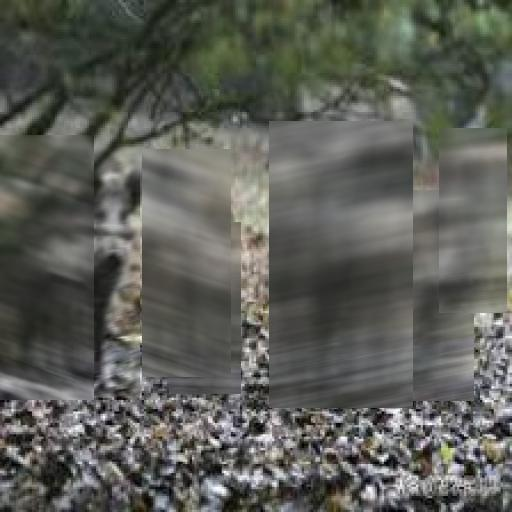Pig: (270, 121, 414, 408), (0, 135, 94, 400), (142, 149, 231, 377), (386, 190, 474, 401), (71, 144, 140, 397), (439, 128, 507, 313), (169, 222, 241, 394)
